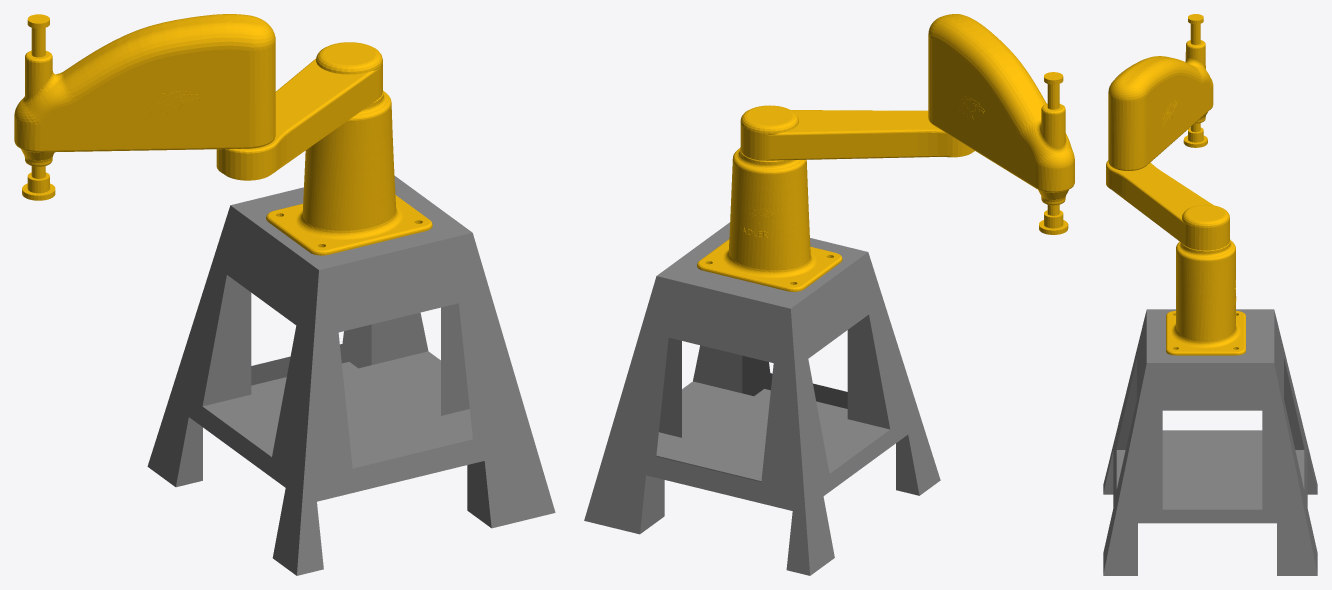
File: scara.dae
3 views of the same model, side by side, from view 1: azimuth 30°, elevation 25°; view 2: azimuth 150°, elevation 25°; view 3: azimuth 270°, elevation 25° (orthographic). The views are drawn at different scales.
Visible parts, largest first — view 1: Cube, SCARA 2 HKAMEL; view 2: Cube, SCARA 2 HKAMEL; view 3: Cube, SCARA 2 HKAMEL.
Boxes of the visible parts, <box> form: Cube: <box>147,175,555,575</box>; SCARA 2 HKAMEL: <box>14,14,432,255</box>; Cube: <box>584,222,940,575</box>; SCARA 2 HKAMEL: <box>697,14,1074,291</box>; Cube: <box>1103,309,1317,575</box>; SCARA 2 HKAMEL: <box>1106,14,1245,355</box>.
Bounding box in the file's own units: 1.5 × 0.8223 × 1.69.
